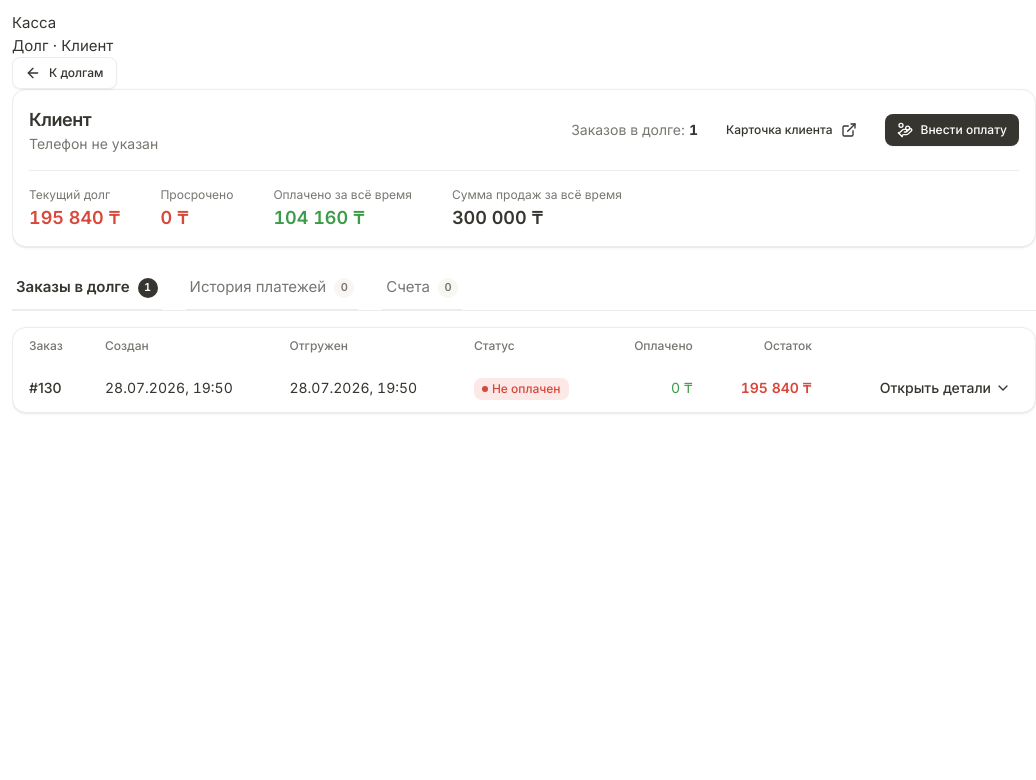
keeps the table on desktop and expands a row by clicking it
Expected: the column heading "Отгружен" is shown, [274,328,458,364]
Click the cell "#130" at (51, 388), box [13,364,89,412]
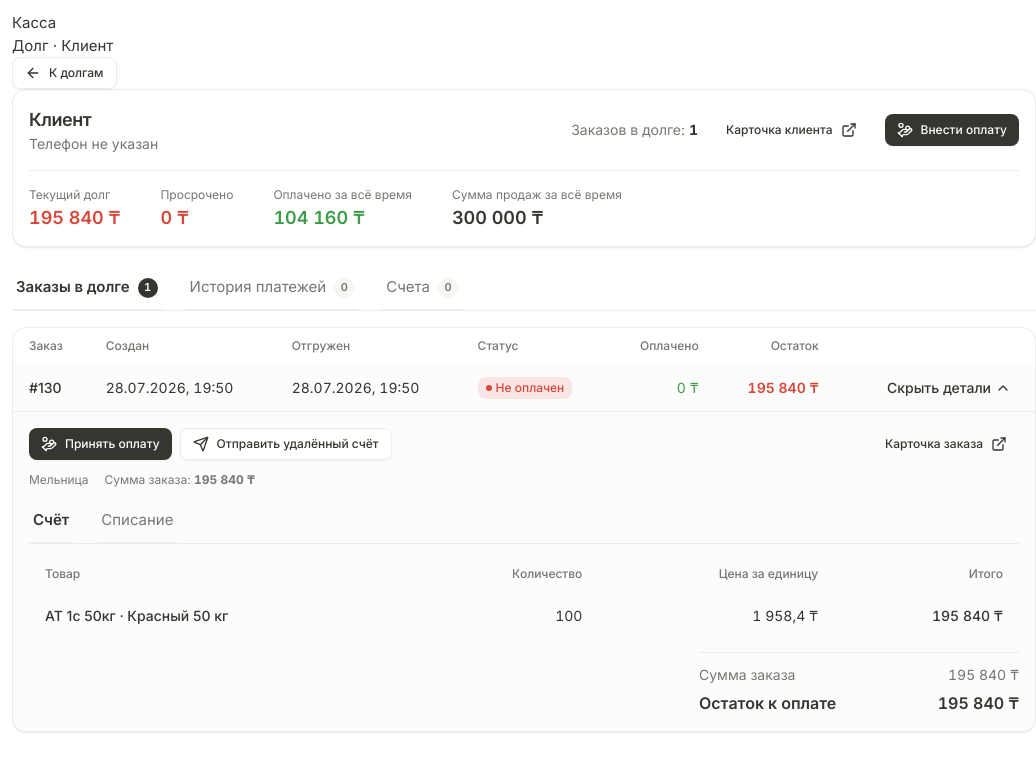
Result: the button with aria-label "Скрыть детали заказа #130" is expanded at [879,372,1019,402]
Result: the button "Принять оплату" is shown at [29,428,172,460]
